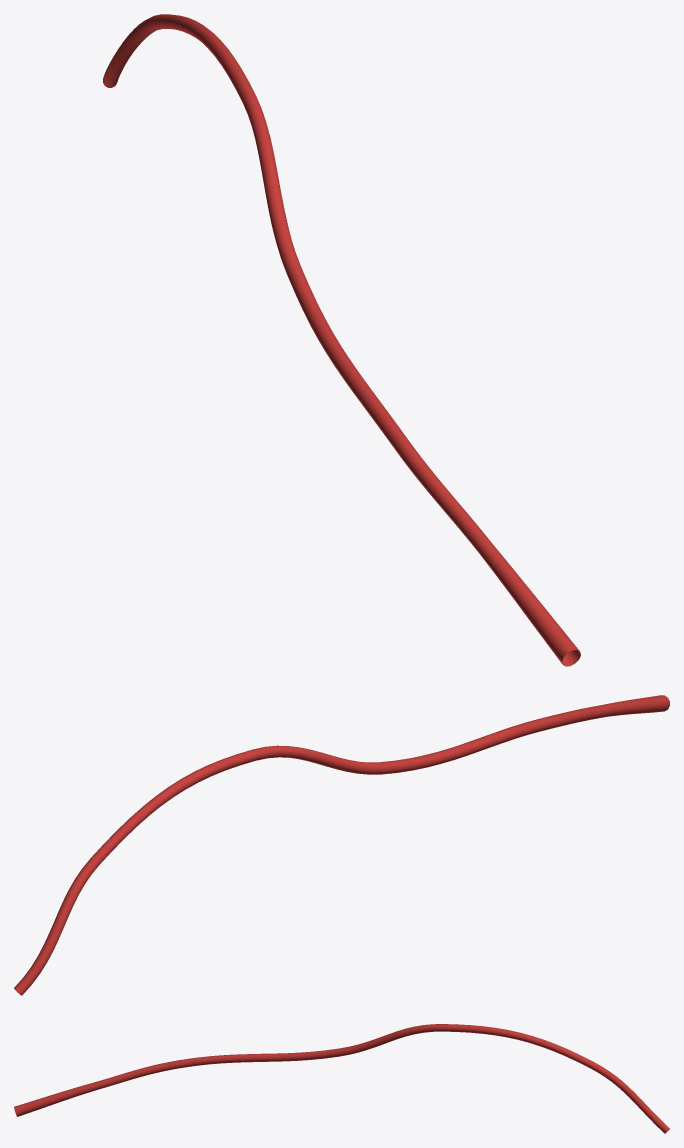
3 renders of one model, top to bottom at view 1: azimuth 30°, elevation 25°; view 2: azimuth 150°, elevation 25°; view 3: azimuth 270°, elevation 25°, orthographic. The views are drawn at different scales.
Visible parts, largest first — view 1: 左侧尺侧上副动脉; view 2: 左侧尺侧上副动脉; view 3: 左侧尺侧上副动脉.
Part boxes in pixels (x1=…): 左侧尺侧上副动脉: x1=103, y1=14, x2=580, y2=666; 左侧尺侧上副动脉: x1=14, y1=695, x2=669, y2=995; 左侧尺侧上副动脉: x1=14, y1=1024, x2=669, y2=1133.
Size of the model in its own units: 0.0327 by 0.0357 by 0.1766.
